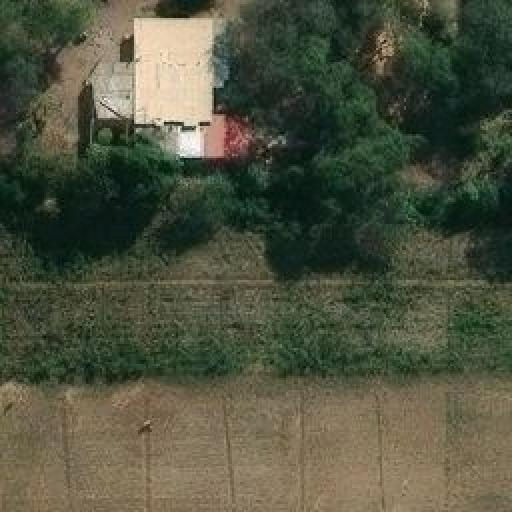manzanas: (81, 17, 285, 163)
